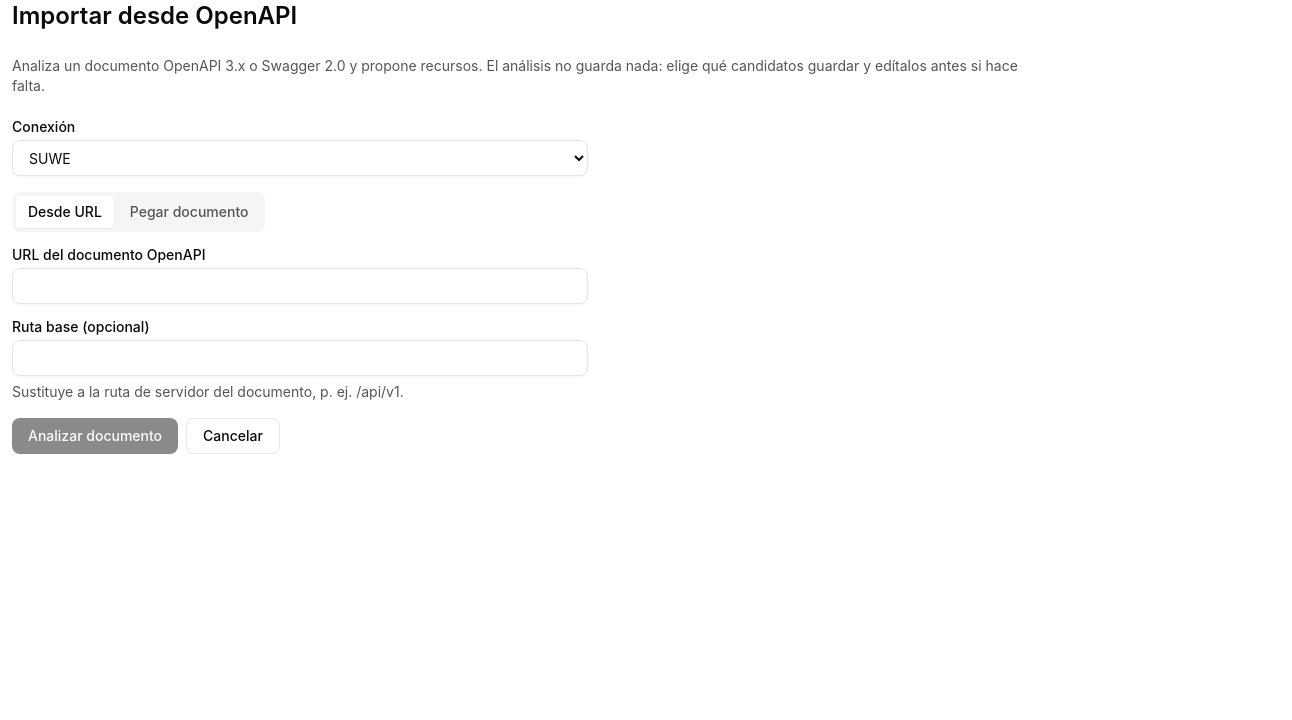
Test: ImportPage analysis › imports from a URL and lists candidates without saving anything
Type "https://api.test/openapi.json" into the field labelled "URL del documento OpenAPI" at (300, 286), box [12,268,588,304]
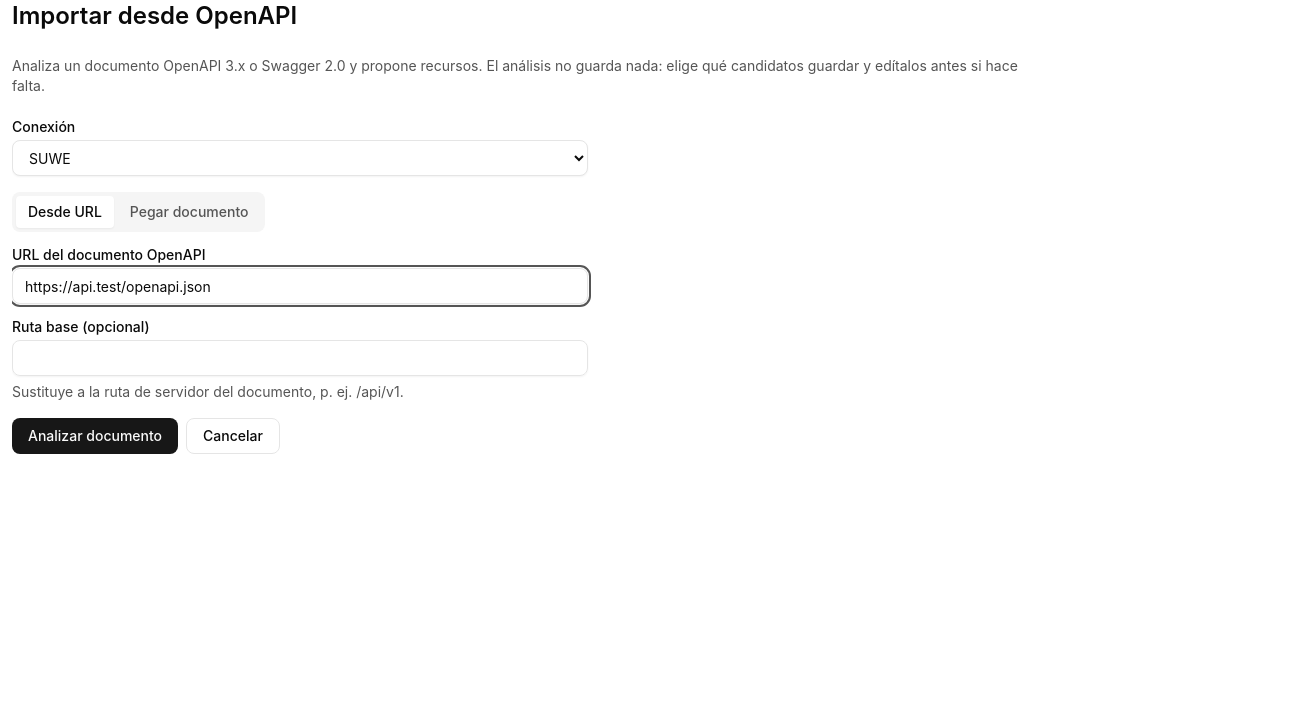
Click the button "Analizar documento" at (95, 436), box [12,418,178,454]
(page scrolled)
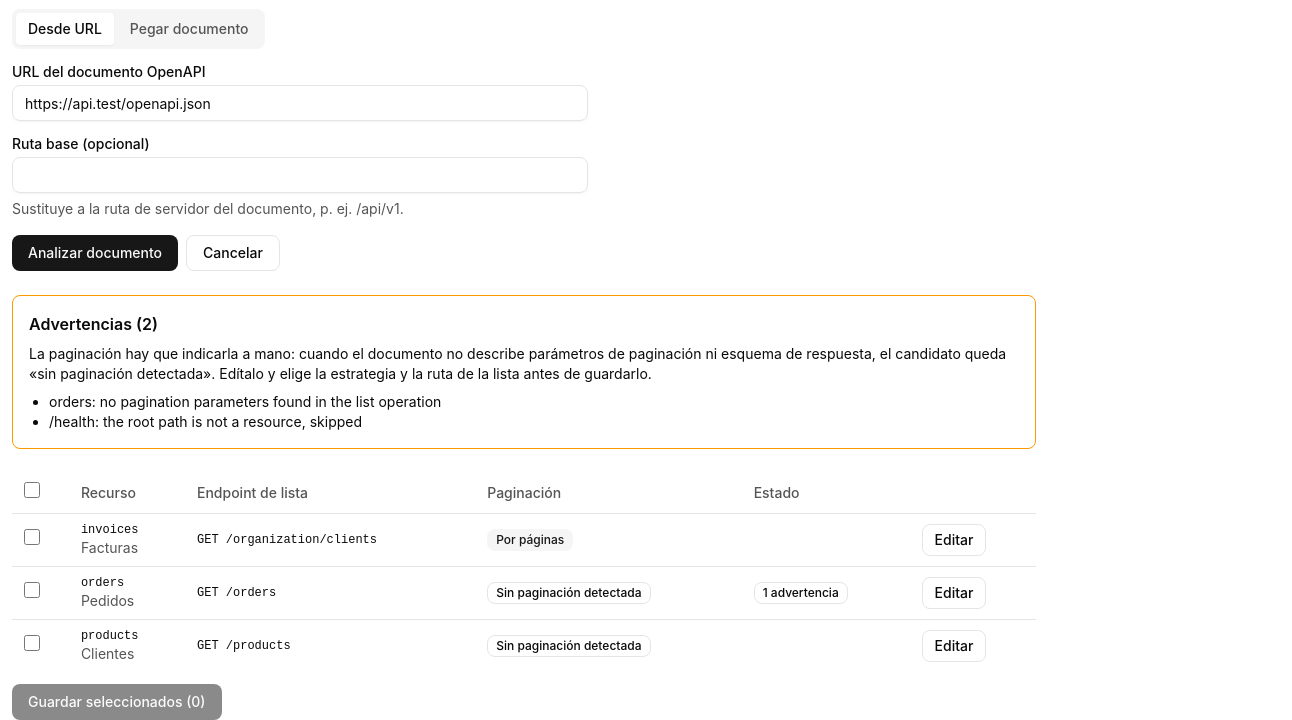
Expected: the table named "Candidatos" is shown, [12,473,1036,672]
Expected: the text "GET /organization/clients" is shown, [185,513,475,566]
Expected: the text "Por páginas" is shown, [487,528,573,550]
